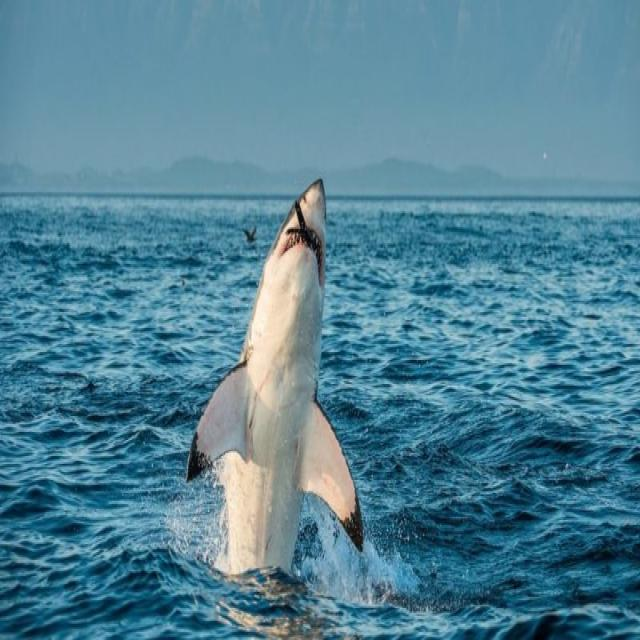Carnivorous: (187, 181, 368, 581)
